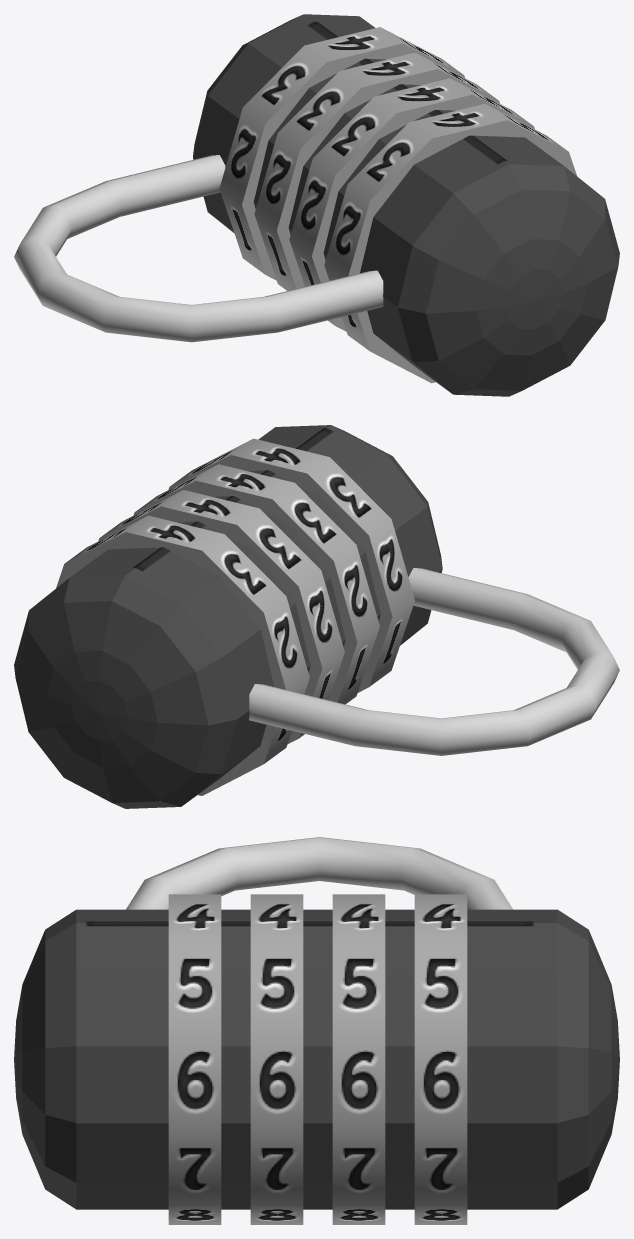
File: obj_lock_criptext.FBX
The picture shows the model from 3 angles, top to bottom: view 1: azimuth 30°, elevation 25°; view 2: azimuth 150°, elevation 25°; view 3: azimuth 270°, elevation 25°; orthographic projection. The views are drawn at different scales.
Visible parts, largest first — view 1: obj_lock_criptext_base, obj_lock_criptext_hinge, obj_lock_criptext_ring_1_of_4, obj_lock_criptext_ring_4_of_4, obj_lock_criptext_ring_3_of_4, obj_lock_criptext_ring_2_of_4; view 2: obj_lock_criptext_base, obj_lock_criptext_hinge, obj_lock_criptext_ring_4_of_4, obj_lock_criptext_ring_1_of_4, obj_lock_criptext_ring_2_of_4, obj_lock_criptext_ring_3_of_4; view 3: obj_lock_criptext_base, obj_lock_criptext_ring_1_of_4, obj_lock_criptext_ring_2_of_4, obj_lock_criptext_ring_3_of_4, obj_lock_criptext_ring_4_of_4, obj_lock_criptext_hinge.
Part boxes in pixels (<box>): obj_lock_criptext_base: <box>193,14,619,396</box>; obj_lock_criptext_hinge: <box>14,155,383,342</box>; obj_lock_criptext_ring_1_of_4: <box>324,104,576,383</box>; obj_lock_criptext_ring_4_of_4: <box>219,27,464,280</box>; obj_lock_criptext_ring_3_of_4: <box>254,52,499,290</box>; obj_lock_criptext_ring_2_of_4: <box>289,78,534,331</box>; obj_lock_criptext_base: <box>14,425,442,808</box>; obj_lock_criptext_hinge: <box>249,568,619,755</box>; obj_lock_criptext_ring_4_of_4: <box>56,515,309,795</box>; obj_lock_criptext_ring_1_of_4: <box>168,438,414,692</box>; obj_lock_criptext_ring_2_of_4: <box>133,464,379,704</box>; obj_lock_criptext_ring_3_of_4: <box>98,490,344,744</box>; obj_lock_criptext_base: <box>14,909,619,1209</box>; obj_lock_criptext_ring_1_of_4: <box>168,894,221,1224</box>; obj_lock_criptext_ring_2_of_4: <box>250,894,303,1224</box>; obj_lock_criptext_ring_3_of_4: <box>332,894,385,1224</box>; obj_lock_criptext_ring_4_of_4: <box>414,894,467,1224</box>; obj_lock_criptext_hinge: <box>126,837,512,909</box>.
Bounding box in the file's own units: 102 × 48.59 × 92.93.
3 materials, 2 textured.
